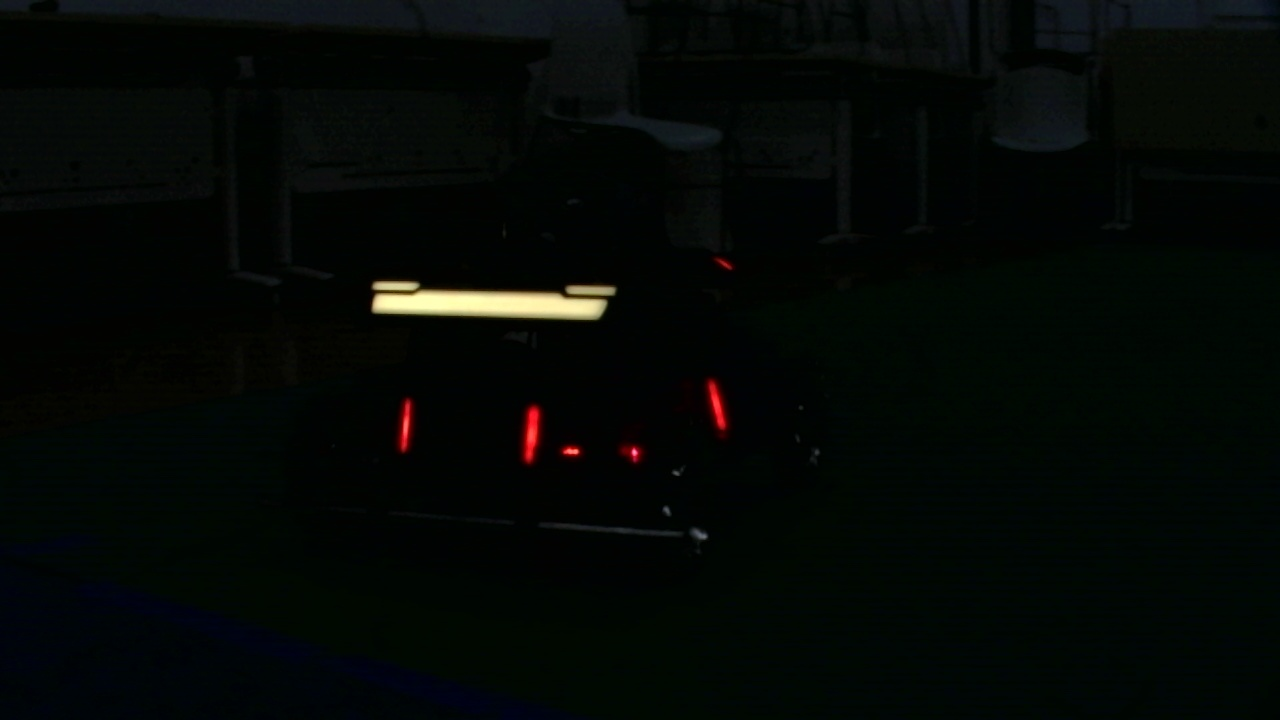lamp: (519, 398, 543, 473), (706, 374, 730, 435), (397, 400, 413, 466)
notpair1: (522, 374, 727, 473)
pair1: (399, 402, 542, 469)
